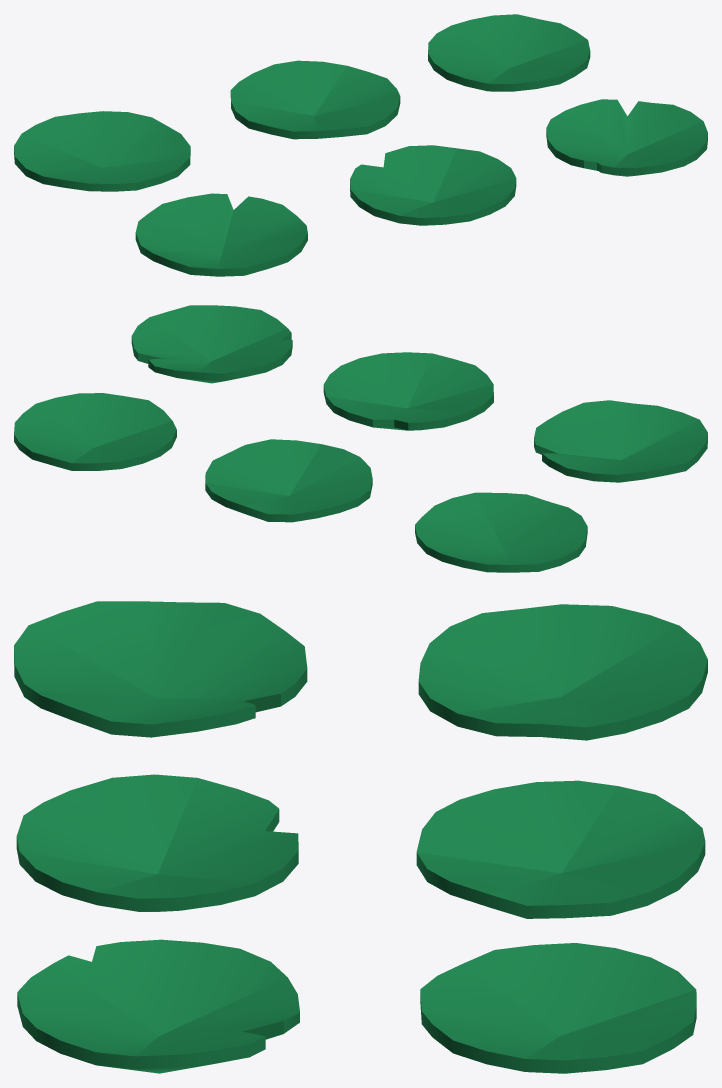
File: plant_mushroom_leaves_ABC_thick.fbx
3 views of the same model, one above another, from view 1: azimuth 30°, elevation 25°; view 2: azimuth 150°, elevation 25°; view 3: azimuth 270°, elevation 25° (orthographic). The views are drawn at different scales.
Visible parts, largest first — view 1: plant_mushroom_leaf_A_thick, plant_mushroom_leaf_A_chip_thick, plant_mushroom_leaf_B_thick, plant_mushroom_leaf_B_chip_thick, plant_mushroom_leaf_C_thick, plant_mushroom_leaf_C_chip_thick; view 2: plant_mushroom_leaf_A_chip_thick, plant_mushroom_leaf_A_thick, plant_mushroom_leaf_B_thick, plant_mushroom_leaf_B_chip_thick, plant_mushroom_leaf_C_thick, plant_mushroom_leaf_C_chip_thick; view 3: plant_mushroom_leaf_A_chip_thick, plant_mushroom_leaf_A_thick, plant_mushroom_leaf_B_thick, plant_mushroom_leaf_B_chip_thick, plant_mushroom_leaf_C_chip_thick, plant_mushroom_leaf_C_thick.
Boxes of the visible parts, x1,y1,x2,y2 form: plant_mushroom_leaf_A_thick: (14,111,190,191); plant_mushroom_leaf_A_chip_thick: (135,193,307,276); plant_mushroom_leaf_B_thick: (230,60,400,139); plant_mushroom_leaf_B_chip_thick: (350,145,516,225); plant_mushroom_leaf_C_thick: (428,14,590,91); plant_mushroom_leaf_C_chip_thick: (546,99,707,176); plant_mushroom_leaf_A_chip_thick: (534,400,707,482); plant_mushroom_leaf_A_thick: (415,492,587,572); plant_mushroom_leaf_B_thick: (205,439,372,522); plant_mushroom_leaf_B_chip_thick: (323,352,493,430); plant_mushroom_leaf_C_thick: (14,393,176,470); plant_mushroom_leaf_C_chip_thick: (131,305,292,383); plant_mushroom_leaf_A_chip_thick: (14,601,307,737); plant_mushroom_leaf_A_thick: (418,604,707,740); plant_mushroom_leaf_B_thick: (416,780,705,918); plant_mushroom_leaf_B_chip_thick: (16,774,298,911); plant_mushroom_leaf_C_chip_thick: (17,939,299,1073); plant_mushroom_leaf_C_thick: (420,943,696,1073).
Size of the model in its own units: 112 by 9.02 by 71.65.
